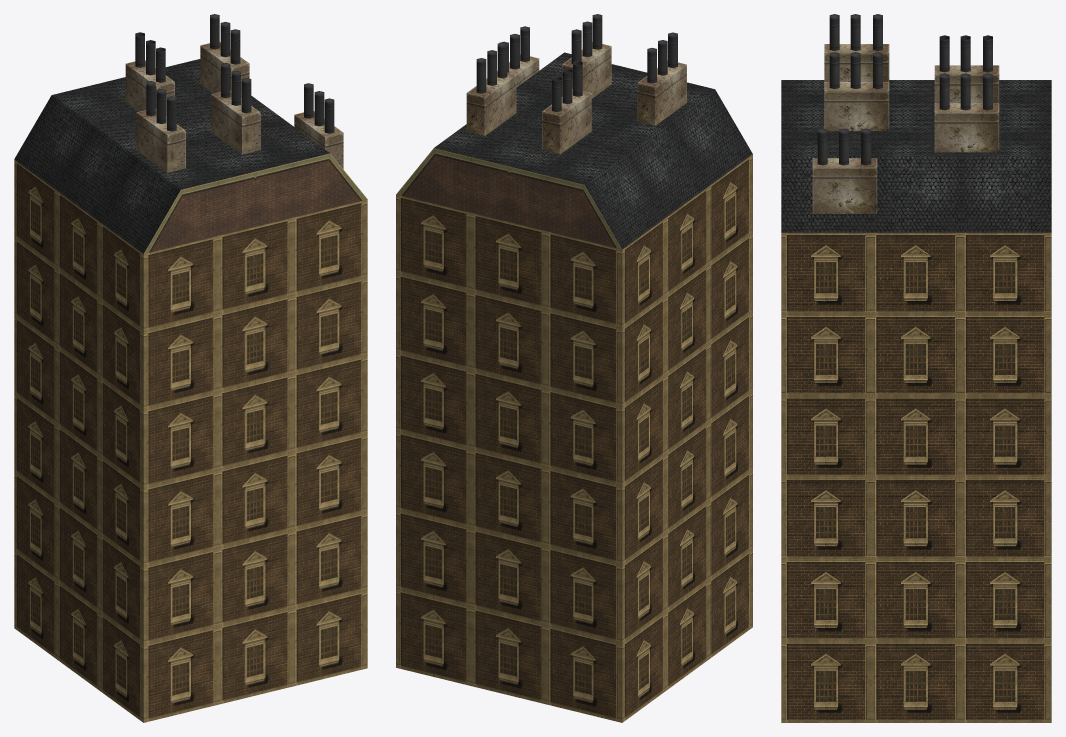
File: Building2.FBX
The picture shows the model from 3 angles, left to right: view 1: azimuth 30°, elevation 25°; view 2: azimuth 150°, elevation 25°; view 3: azimuth 270°, elevation 25°; orthographic projection. The views are drawn at different scales.
Parts seen in each view (by area): view 1: Building2; view 2: Building2; view 3: Building2.
Part boxes in pixels (x1=…): Building2: x1=14, y1=14, x2=367, y2=722; Building2: x1=396, y1=14, x2=752, y2=722; Building2: x1=781, y1=14, x2=1051, y2=722.
Size of the model in its own units: 1200 by 3033 by 1200.
